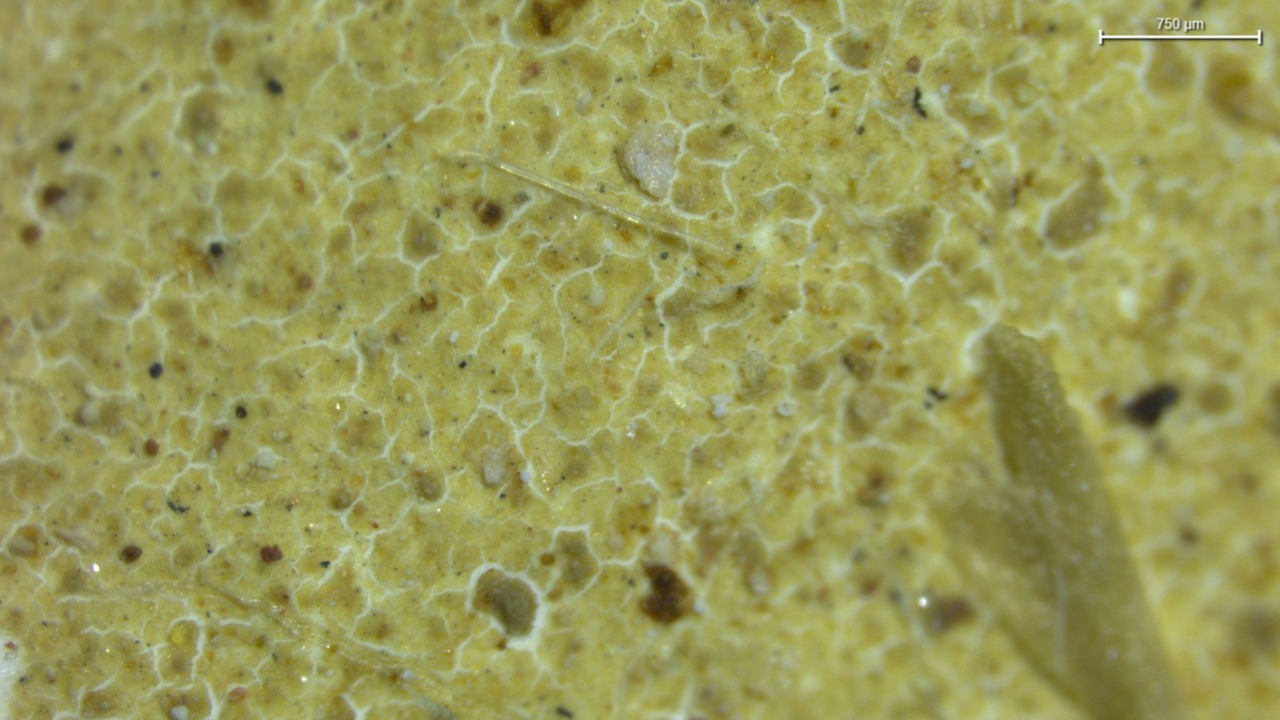microplastic_fragment: (622, 123, 678, 199)
